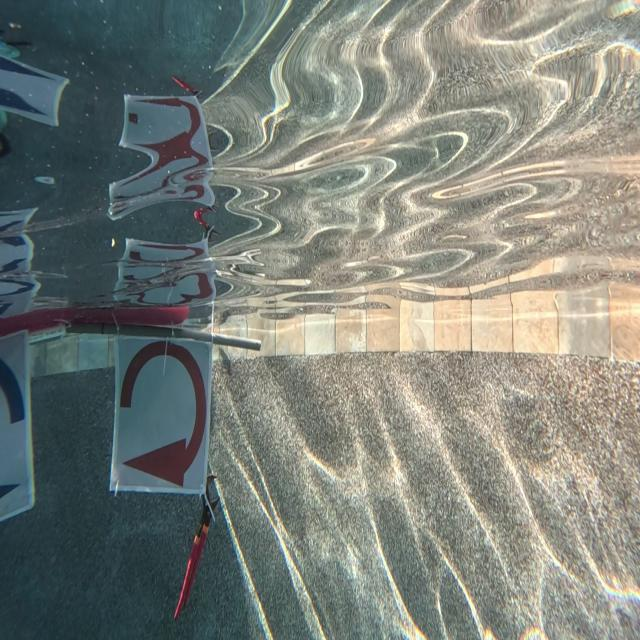blue_side: (0, 336, 29, 504)
red_side: (113, 335, 203, 490)
